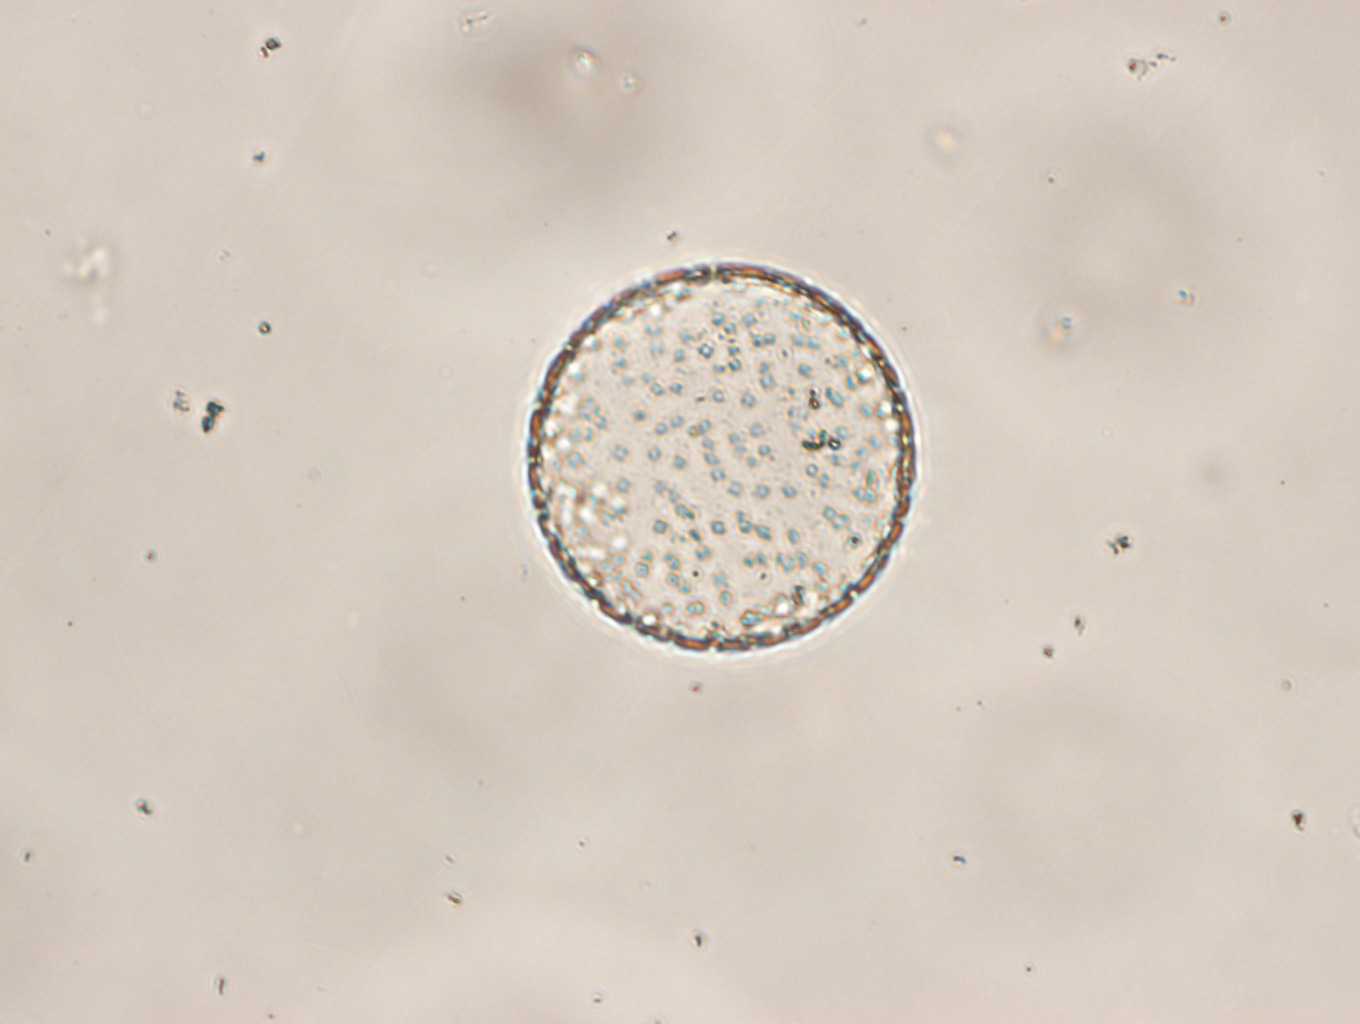coscinodiscus: (524, 261, 918, 657)
